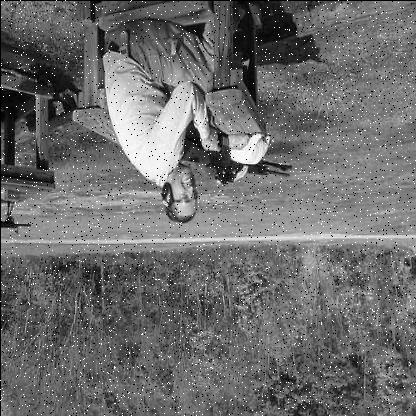rifle: (160, 105, 295, 191)
